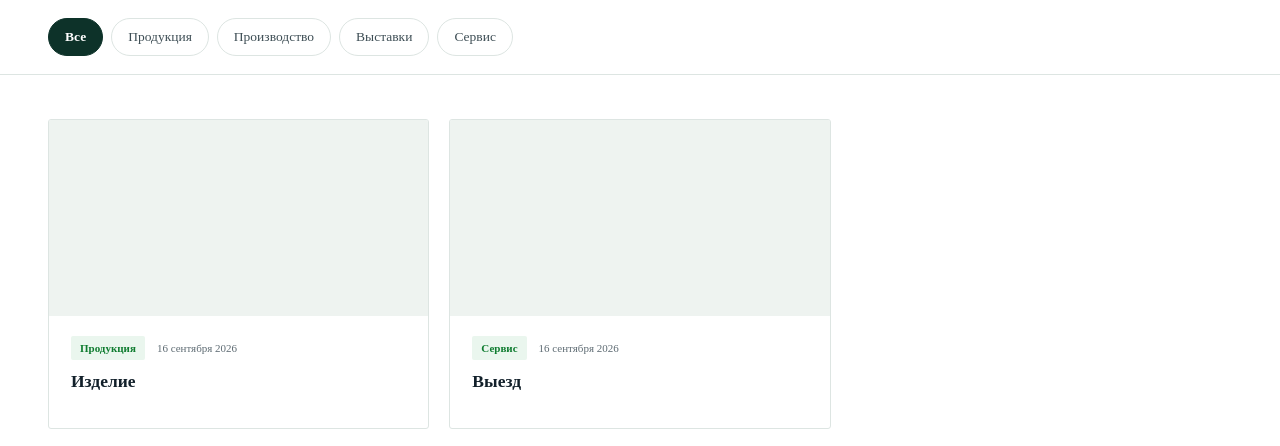
Test case: вкладки рубрик › включённый переключатель отбирает ленту по рубрике
The image size is (1280, 446).
Click the button "Сервис": (475, 37) [437, 18, 513, 56]
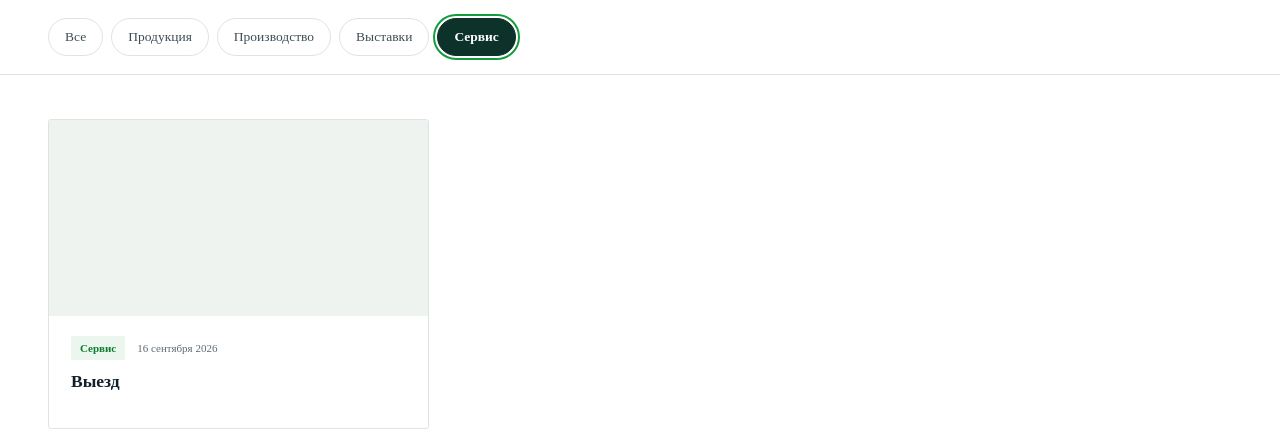
Check: the heading "Выезд" is shown, box [71, 371, 120, 391]
Check: the link "Изделие" is gone
